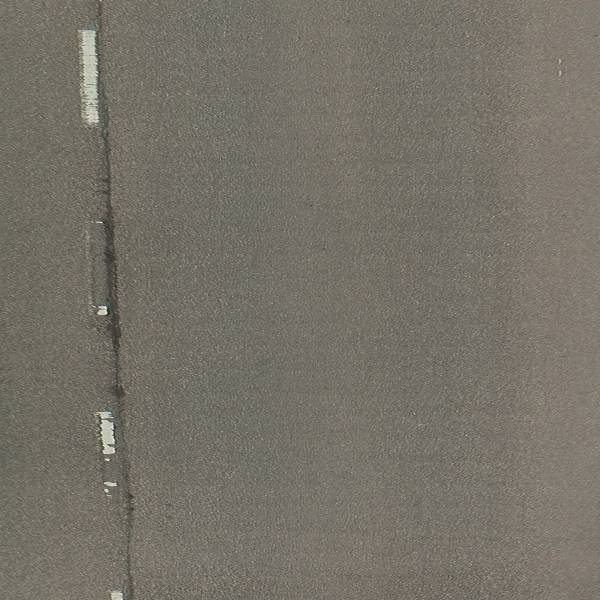road_damage: (98, 162, 127, 407)
